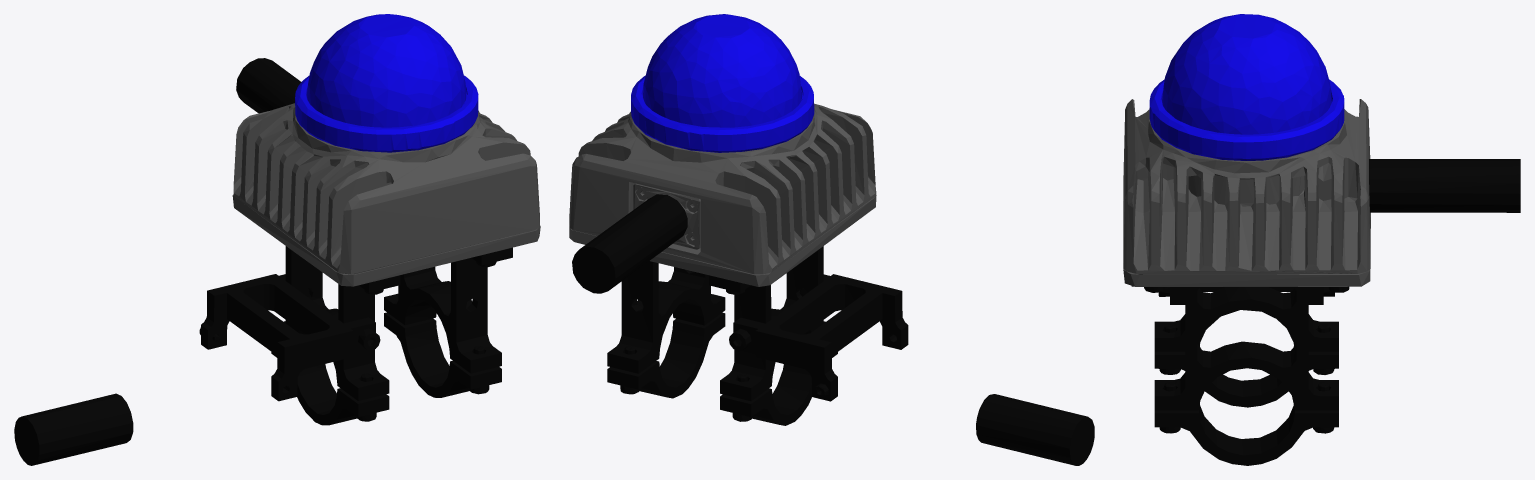
The model's file is livox_mid360.dae.
3 views of the same model, side by side, from view 1: azimuth 30°, elevation 25°; view 2: azimuth 150°, elevation 25°; view 3: azimuth 270°, elevation 25° (orthographic). The views are drawn at different scales.
Visible parts, largest first — view 1: livox_mid360_black, livox_mid360_silver, livox_mid360_blue; view 2: livox_mid360_black, livox_mid360_silver, livox_mid360_blue; view 3: livox_mid360_silver, livox_mid360_black, livox_mid360_blue.
Boxes of the visible parts, x1,y1,x2,y2 form: livox_mid360_black: (14, 58, 512, 465); livox_mid360_silver: (232, 103, 540, 286); livox_mid360_blue: (295, 14, 478, 152); livox_mid360_black: (572, 194, 1094, 465); livox_mid360_silver: (569, 103, 876, 286); livox_mid360_blue: (631, 14, 814, 152); livox_mid360_silver: (1123, 99, 1370, 286); livox_mid360_black: (1131, 159, 1520, 465); livox_mid360_blue: (1149, 14, 1344, 160).
Size of the model in its own units: 0.1474 by 0.1035 by 0.1156.
